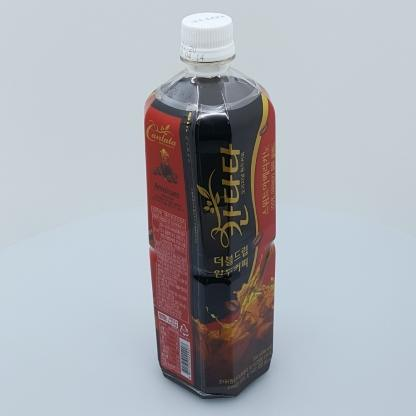-----------900ML: (144, 12, 276, 400)
